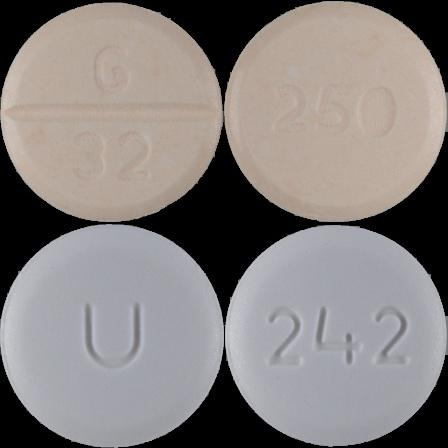45865-610: (0, 0, 224, 224)
